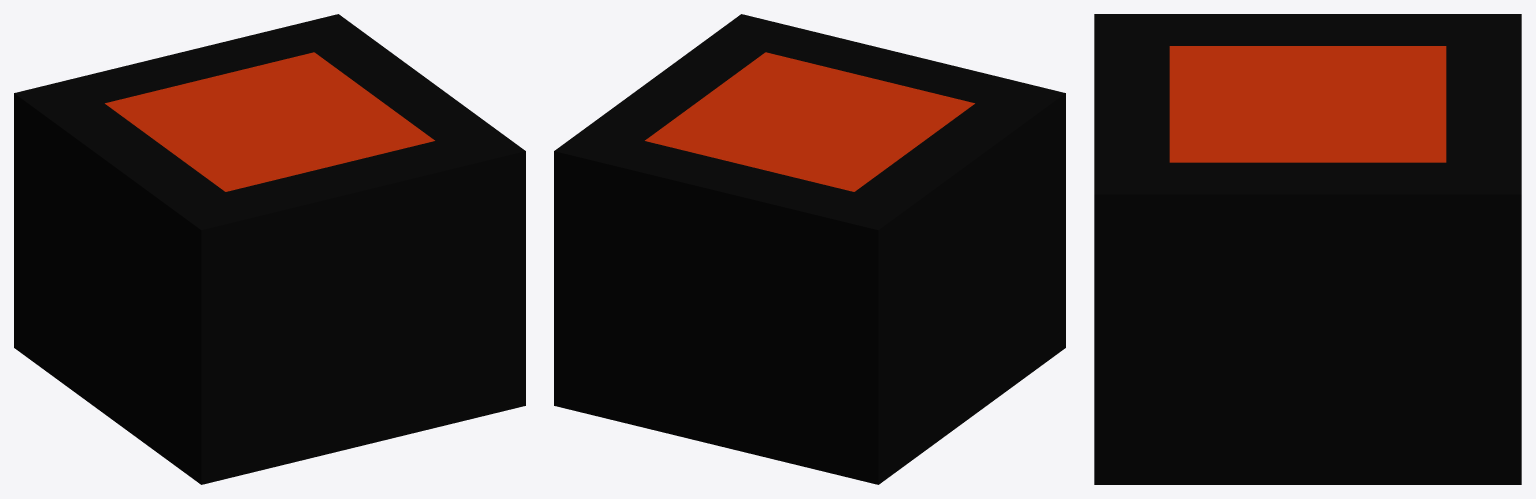
Rendered from vanadinite_ore.dae.
3 views of the same model, side by side, from view 1: azimuth 30°, elevation 25°; view 2: azimuth 150°, elevation 25°; view 3: azimuth 270°, elevation 25° (orthographic). The views are drawn at different scales.
Visible parts, largest first — view 1: Cube.001; view 2: Cube.001; view 3: Cube.001.
Boxes of the visible parts, x1,y1,x2,y2 form: Cube.001: (14,14,525,484); Cube.001: (554,14,1065,484); Cube.001: (1094,14,1521,484).
Bounding box in the file's own units: 0.1016 × 0.1016 × 0.0762.
